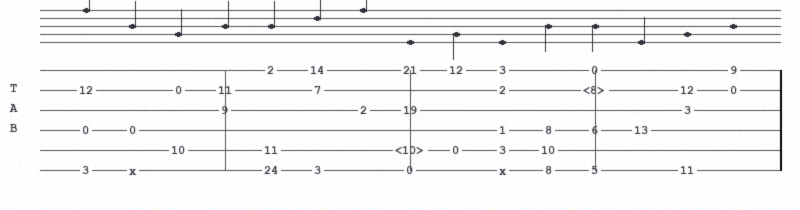0: (82, 124, 93, 136), (129, 124, 140, 136), (175, 84, 186, 96), (406, 164, 417, 176), (452, 144, 463, 156), (591, 64, 602, 76), (730, 84, 741, 96)
1: (499, 124, 510, 136)
10: (171, 144, 189, 156), (541, 144, 559, 156)
11: (218, 84, 236, 96), (264, 144, 282, 156), (680, 164, 698, 176)
12: (79, 84, 97, 96), (449, 64, 467, 76), (680, 84, 698, 96)
13: (634, 124, 652, 136)
14: (310, 64, 328, 76)
19: (403, 104, 421, 116)
2: (267, 64, 278, 76), (360, 104, 371, 116), (499, 84, 510, 96)
21: (403, 64, 421, 76)
24: (264, 164, 282, 176)
3: (82, 164, 93, 176), (314, 164, 325, 176), (499, 64, 510, 76), (499, 144, 510, 156), (684, 104, 695, 116)
5: (591, 164, 602, 176)
6: (591, 124, 602, 136)
7: (314, 84, 325, 96)
8: (545, 164, 556, 176), (545, 124, 556, 136)
9: (221, 104, 232, 116), (730, 64, 741, 76)
harmonic: (395, 144, 429, 156), (583, 84, 610, 96)
x: (129, 165, 140, 175), (499, 165, 510, 175)
